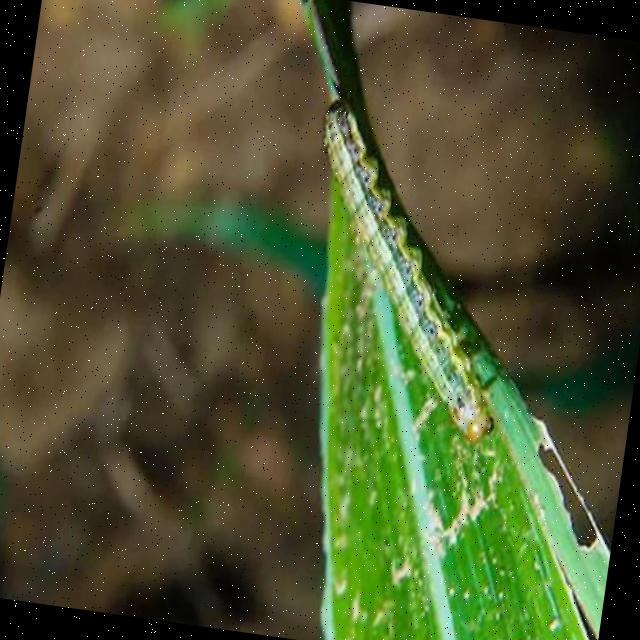worm: (282, 98, 540, 451)
